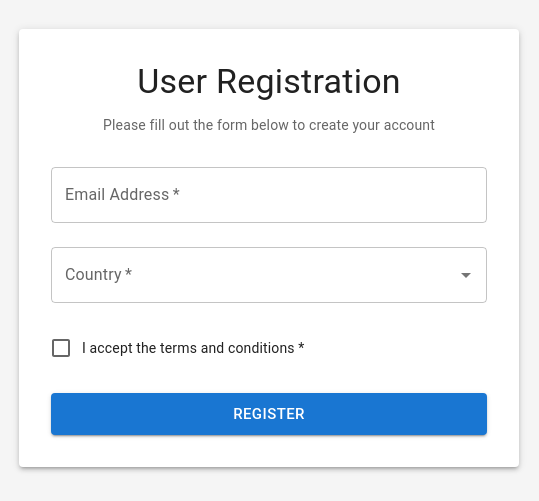
Test case: App Component › TextField Component - Email Validation › should show error for invalid email format
Type "invalid-email" into the field with test id "email-input". click: {"x": 269, "y": 195}
box: x1=51 y1=167 x2=487 y2=223
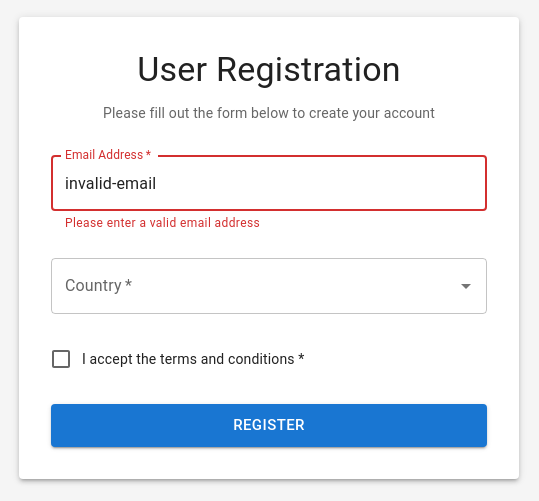
Now the text "Please enter a valid email address" is shown, box x1=65 y1=216 x2=260 y2=230
